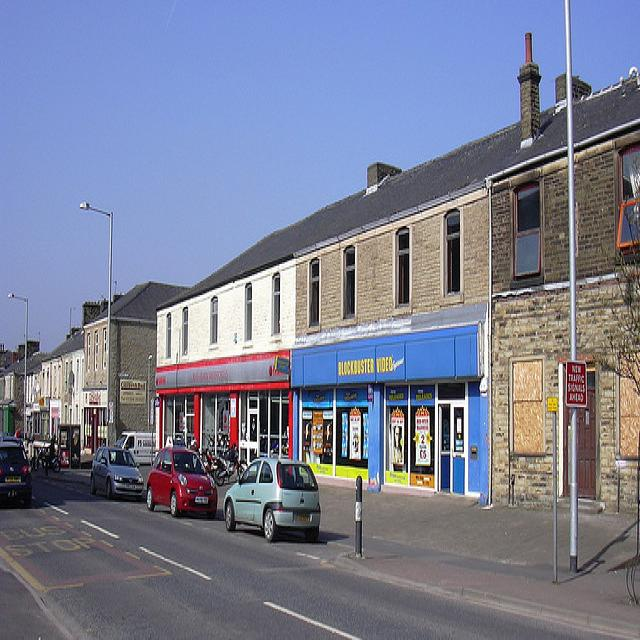motor: (212, 443, 248, 485)
